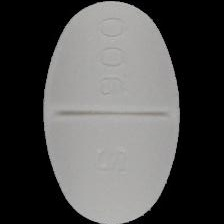43063-370: (0, 0, 224, 224)
